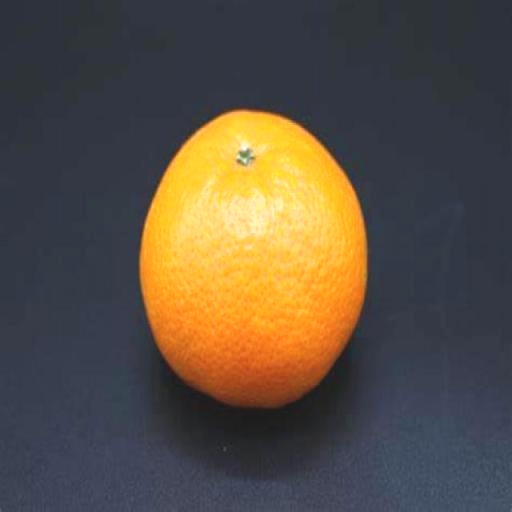fruit: (140, 112, 367, 407)
